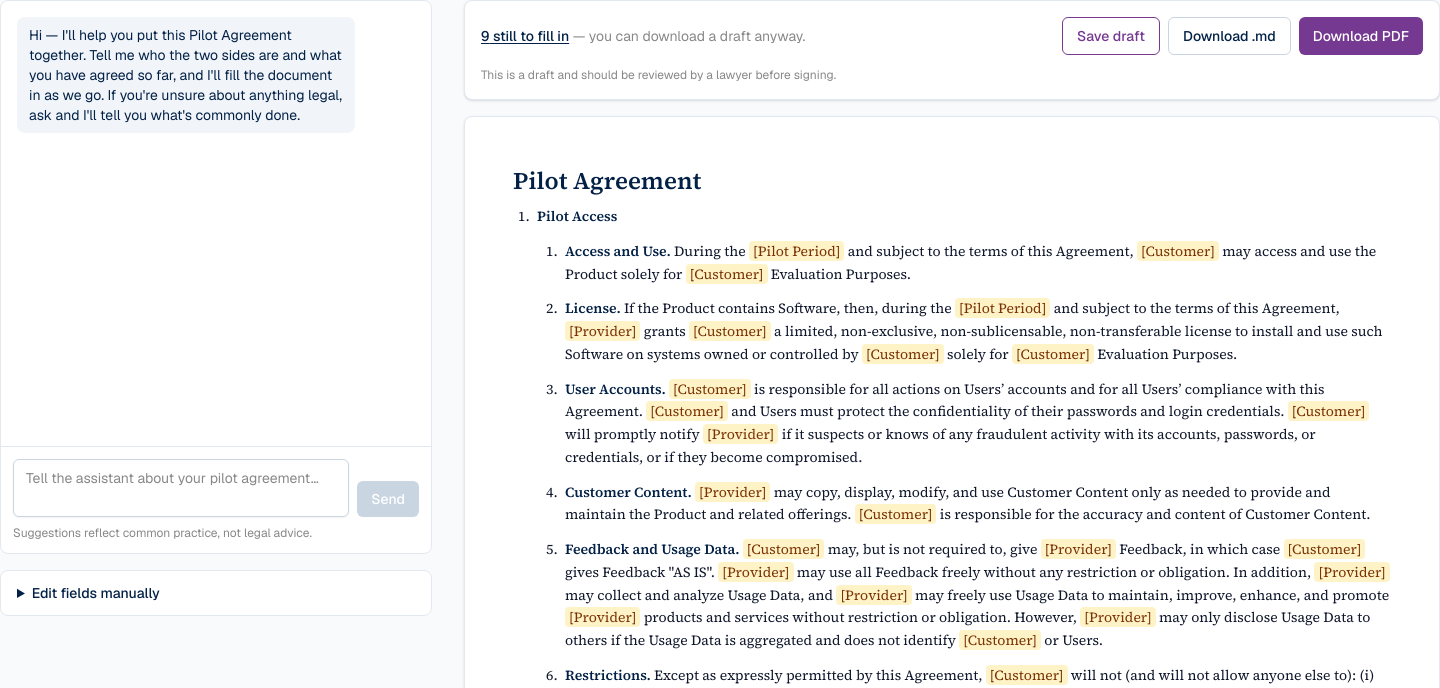
Test: saving a draft › reports a save that failed
The image size is (1440, 688).
What coordinates should you click on to do the following:
click the button "Save draft"
I would click on:
 (1111, 36)
Its box is x1=1062 y1=17 x2=1160 y2=55.
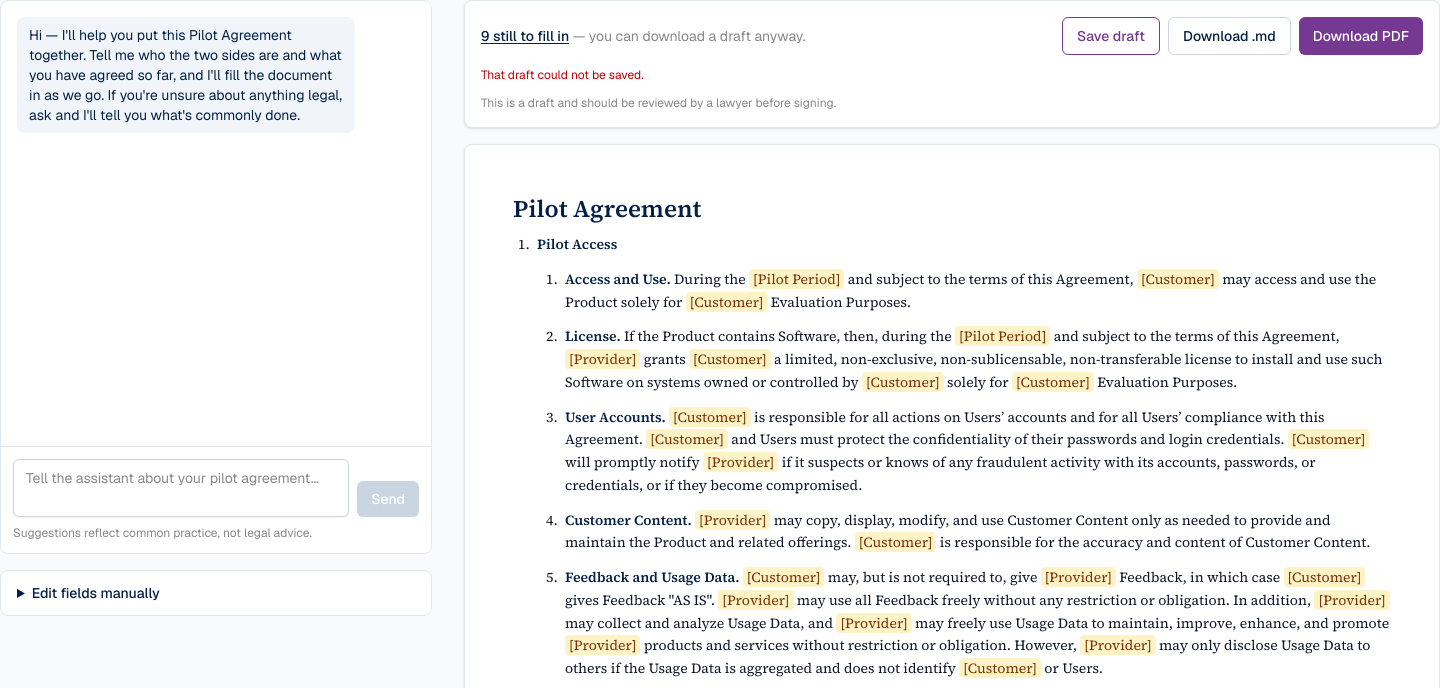
Now the message shows "could not be saved", box x1=481 y1=67 x2=644 y2=83
